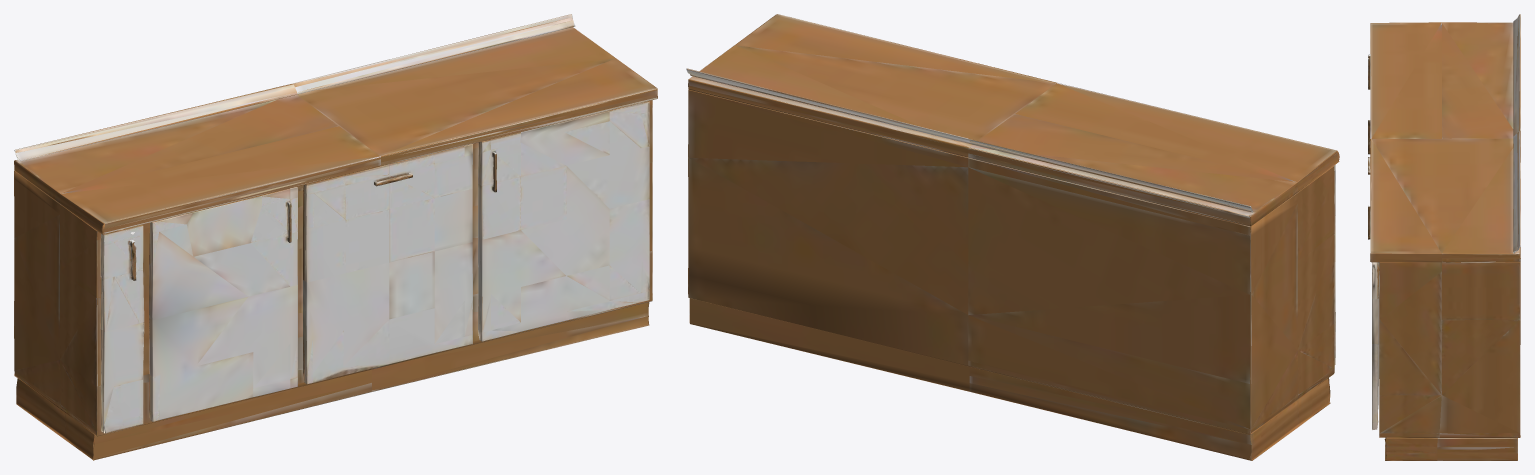
The model's file is credenza.glb.
The picture shows the model from 3 angles, left to right: view 1: azimuth 30°, elevation 25°; view 2: azimuth 150°, elevation 25°; view 3: azimuth 270°, elevation 25°; orthographic projection. The views are drawn at different scales.
Size of the model in its own units: 0.957 by 0.4155 by 0.2662.
1 material, 1 textured.
